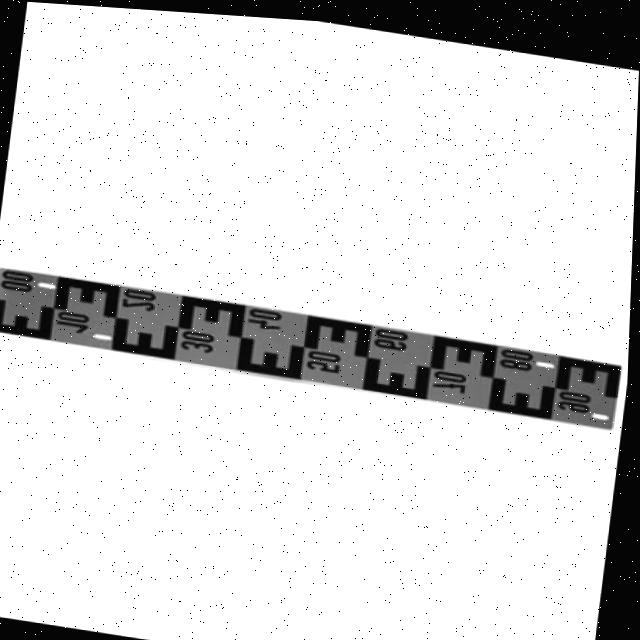water-meter: (0, 256, 631, 437)
